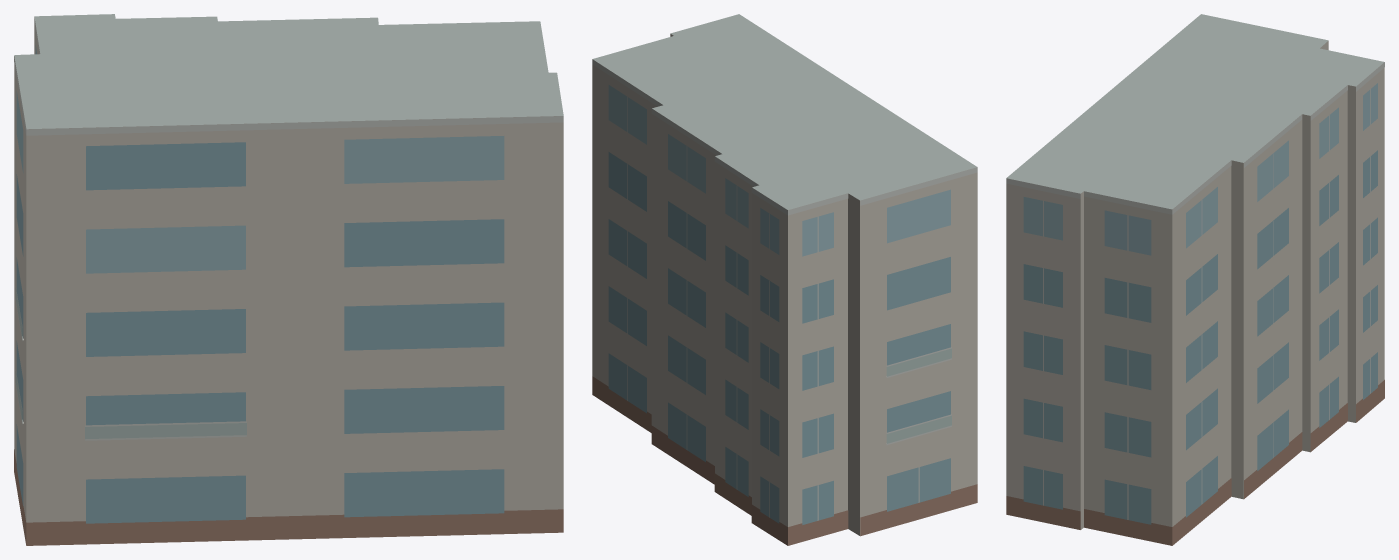
Rendered from survey-upis-32588305.glb.
3 views of the same model, side by side, from view 1: azimuth 30°, elevation 25°; view 2: azimuth 150°, elevation 25°; view 3: azimuth 270°, elevation 25° (orthographic). The views are drawn at different scales.
Parts seen in each view (by area): view 1: survey-upis-32588305.tmp; view 2: survey-upis-32588305.tmp; view 3: survey-upis-32588305.tmp.
Part boxes in pixels (x1,y1,x2,y2): survey-upis-32588305.tmp: [14, 14, 563, 545]; survey-upis-32588305.tmp: [592, 14, 977, 545]; survey-upis-32588305.tmp: [1006, 14, 1384, 545].
Size of the model in its own units: 19.2 by 15.4 by 15.71.
